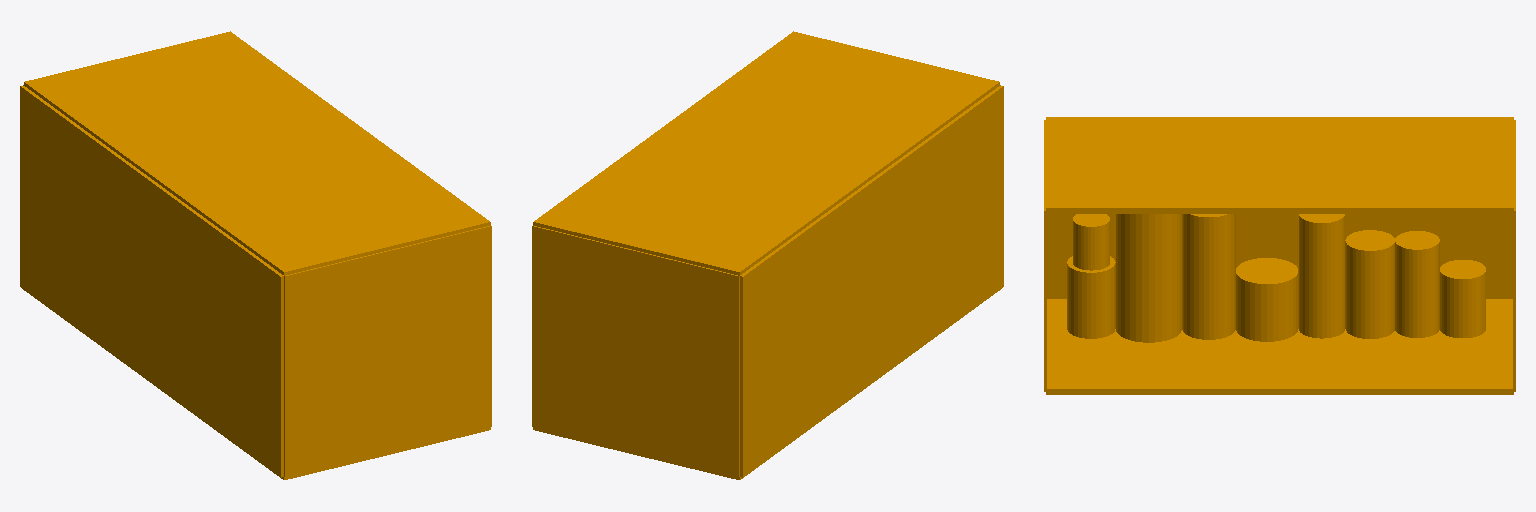
URDF robot description (syn_can_cabinet_packed_nonuniform_18):
<?xml version="1.0" ?>
<robot name="syn_can_cabinet_packed_nonuniform_18">
    <link concave="yes" name="base_link">
        <inertial>
            <origin rpy="0 0 0" xyz="0 0 0"/>
            <mass value="0.0"/>
            <inertia ixx="1e-08" ixy="0" ixz="0" iyy="1e-08" iyz="0" izz="1e-08"/>
        </inertial>
        <visual>
            <origin xyz="0 0 0" rpy="0 0 0" />
            <geometry>
                <mesh filename="syn_can_cabinet_packed_nonuniform_18.obj" scale="1.000000 1.000000 1.000000"/>
            </geometry>         
        </visual>

        <collision concave="yes">
            <origin xyz="0 0 0" rpy="0 0 0"/>
            <geometry>
                <mesh filename="syn_can_cabinet_packed_nonuniform_18.obj" scale="1.000000 1.000000 1.000000"/>
            </geometry>
        </collision>
    </link>
</robot>
    

--- Render facts (derived) ---
3 views of the same robot in one strip: view 1: azimuth 30°, elevation 25°; view 2: azimuth 150°, elevation 25°; view 3: azimuth 270°, elevation 25° (orthographic).
Model syn_can_cabinet_packed_nonuniform_18 with 1 links and 0 joints (none), rooted at base_link, posed every joint at zero.
Visible links, largest first — view 1: base_link; view 2: base_link; view 3: base_link.
Boxes of the visible links, left/top/right/bottom form: base_link: left=20, top=31, right=491, bottom=479; base_link: left=532, top=31, right=1003, bottom=479; base_link: left=1044, top=117, right=1515, bottom=394.
Bounding box of the posed robot: 0.2049 × 0.4425 × 0.1941 m (x, y, z).
Meshes: 1 distinct files referenced, 1 mesh visuals loaded (1 OBJ).
